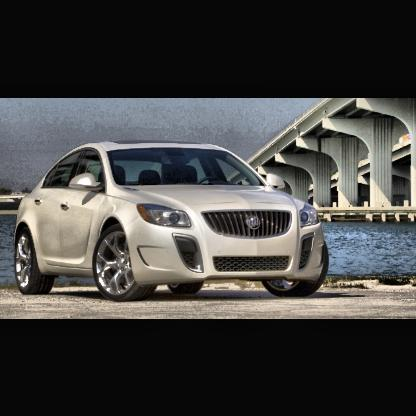Buick Regal GS 2012: (16, 142, 330, 303)
